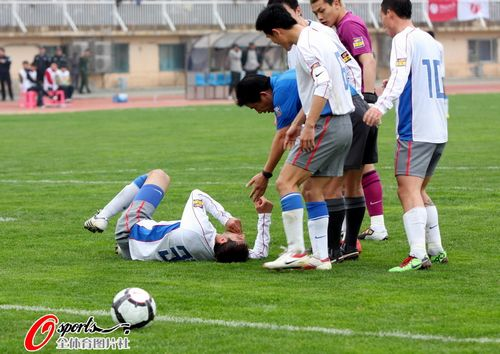10+: (2, 1, 464, 269)
down: (82, 157, 269, 266)
